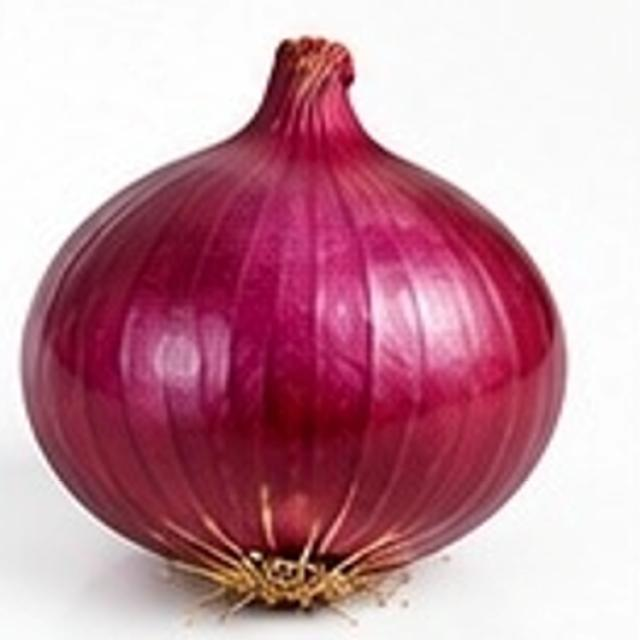healthy: (23, 39, 564, 608)
